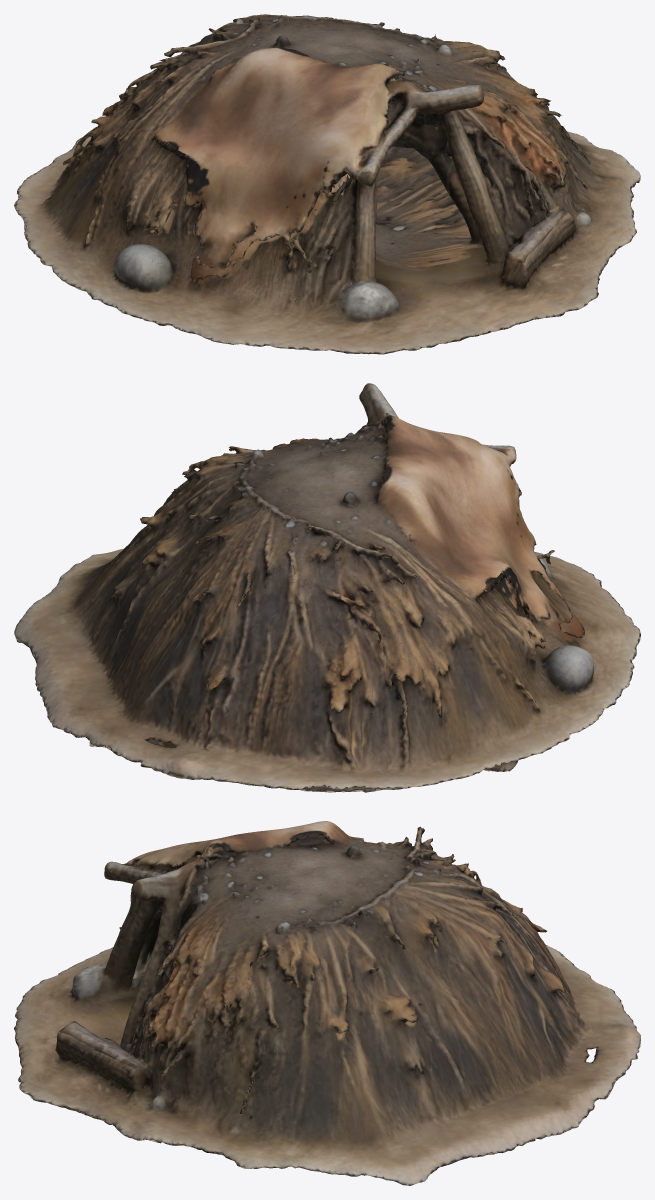
The model's file is Burrow Base Model.fbx.
3 renders of one model, top to bottom at view 1: azimuth 30°, elevation 25°; view 2: azimuth 150°, elevation 25°; view 3: azimuth 270°, elevation 25°, orthographic.
Visible parts, largest first — view 1: Mesh_0; view 2: Mesh_0; view 3: Mesh_0.
Part boxes in pixels (x1,y1,x2,y2): Mesh_0: [14, 14, 640, 354]; Mesh_0: [14, 383, 640, 792]; Mesh_0: [14, 821, 640, 1185].
Size of the model in its own units: 198 by 79.29 by 200.
1 material, 1 textured.
